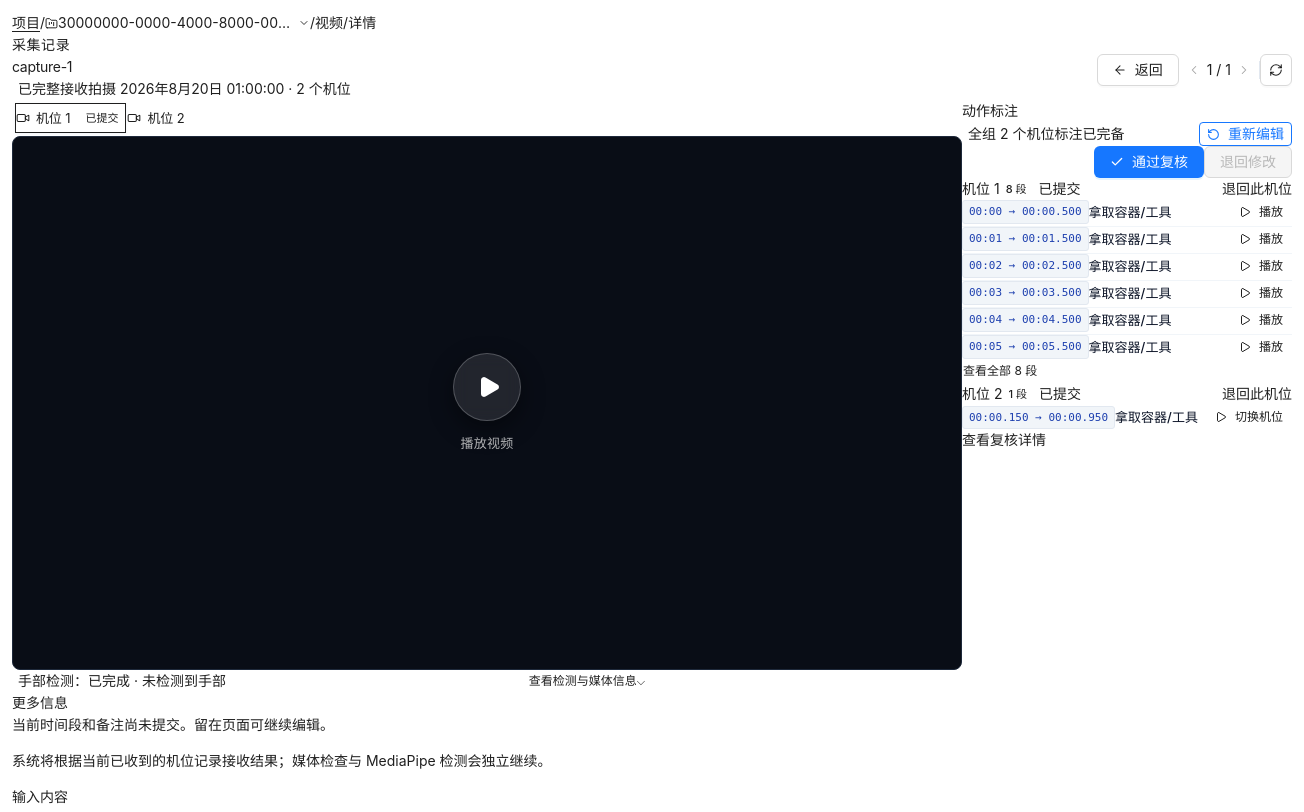
Test: CaptureGroup Review and event cleaning › keeps long camera review intervals collapsed until requested
Expected: the text "8 段" is shown, [1006,182,1026,196]
Expected: the text "00:07 → 00:07.500" is not shown
Click the button "查看全部 8 段": (1000, 371) [962,359,1038,383]
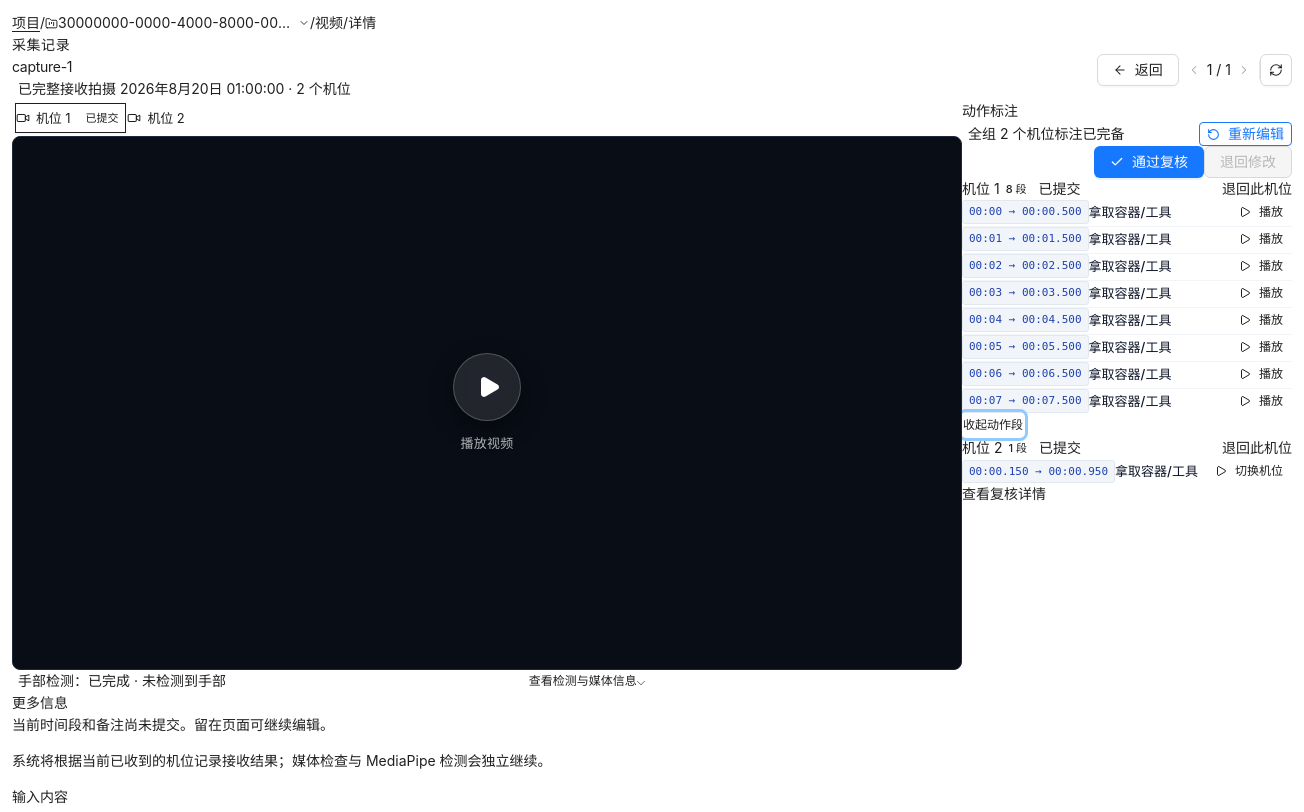
Expected: the text "00:07 → 00:07.500" is shown, [962,389,1089,413]
Expected: the button "收起动作段" is shown, [962,413,1024,437]
